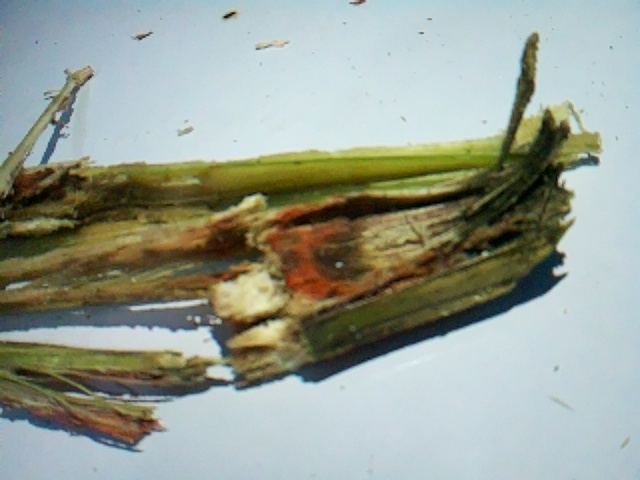Red-Rot: (0, 161, 543, 442)
